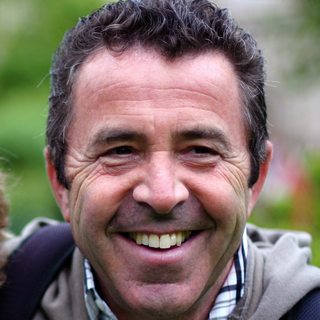eye: (95, 141, 144, 165), (176, 141, 224, 165)
